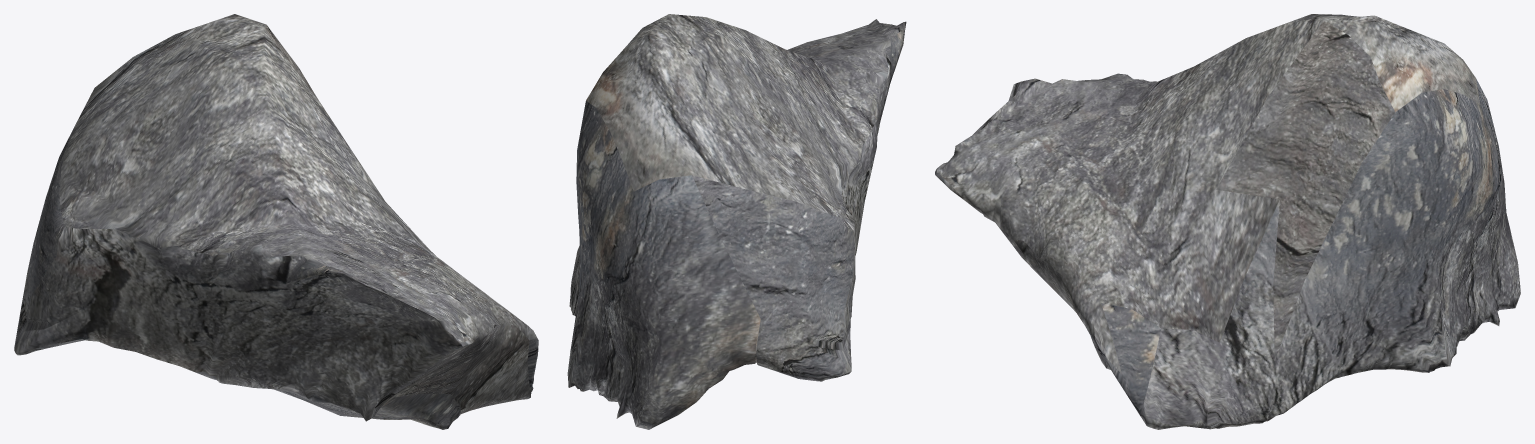
File: Rock(Single1).fbx
The picture shows the model from 3 angles, left to right: view 1: azimuth 30°, elevation 25°; view 2: azimuth 150°, elevation 25°; view 3: azimuth 270°, elevation 25°; orthographic projection. The views are drawn at different scales.
Visible parts, largest first — view 1: Rock12; view 2: Rock12; view 3: Rock12.
Boxes of the visible parts, left/top/right/bottom form: Rock12: left=14, top=14, right=538, bottom=429; Rock12: left=567, top=14, right=906, bottom=429; Rock12: left=935, top=14, right=1520, bottom=429.
Size of the model in its own units: 35.4 by 31.35 by 48.22.
Materials: 1 (1 with a texture image).
